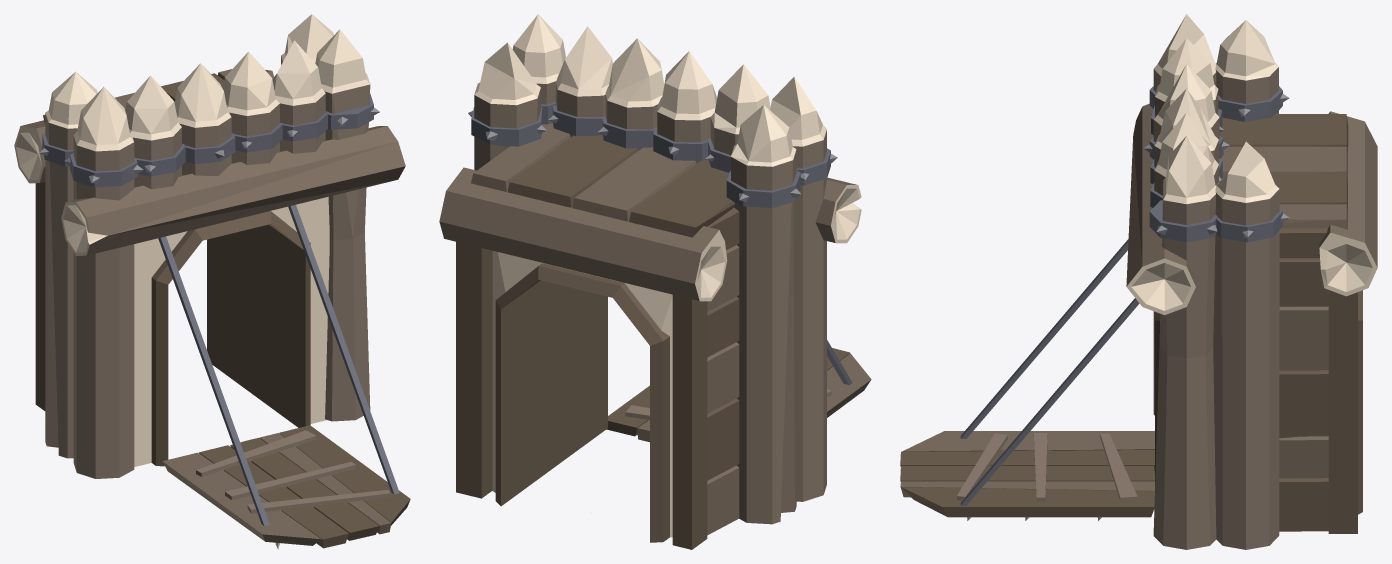
The model's file is _MINNOR_GATES_01.fbx.
The picture shows the model from 3 angles, left to right: view 1: azimuth 30°, elevation 25°; view 2: azimuth 150°, elevation 25°; view 3: azimuth 270°, elevation 25°; orthographic projection. The views are drawn at different scales.
Visible parts, largest first — view 1: MINNOR_GATES_01; view 2: MINNOR_GATES_01; view 3: MINNOR_GATES_01.
Part boxes in pixels (x1,y1,x2,y2): MINNOR_GATES_01: [14, 14, 410, 549]; MINNOR_GATES_01: [439, 14, 871, 549]; MINNOR_GATES_01: [900, 14, 1377, 549].
Bounding box in the file's own units: 694 × 861 × 873.
